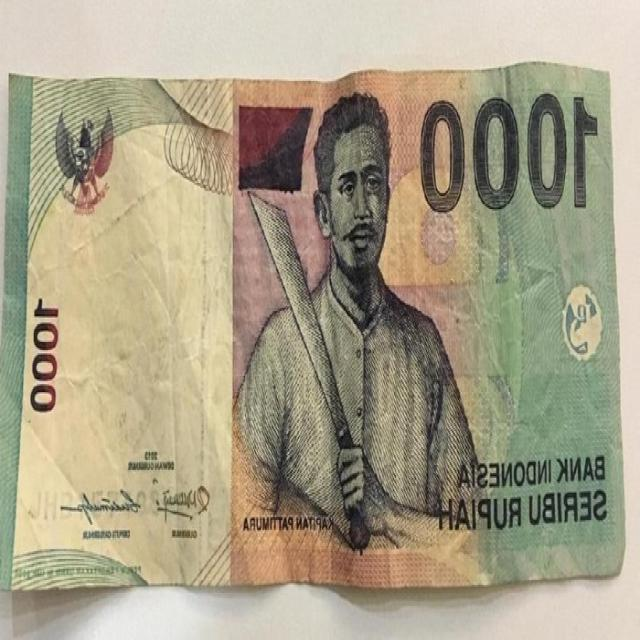seribu rupiah: (0, 75, 623, 590)
